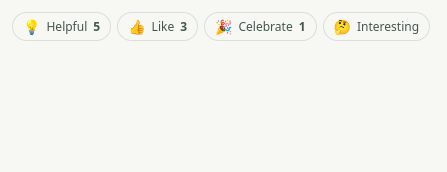
Test case: ReactionPicker › toggles a reaction and notifies parent on click
This screenshot has width=447, height=172.
Click the button "👍 Like 3": (158, 27) [117,12,198,41]
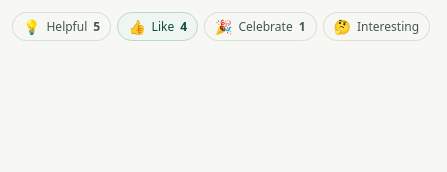
Check: the text "4" is shown, box [180,17,187,36]
